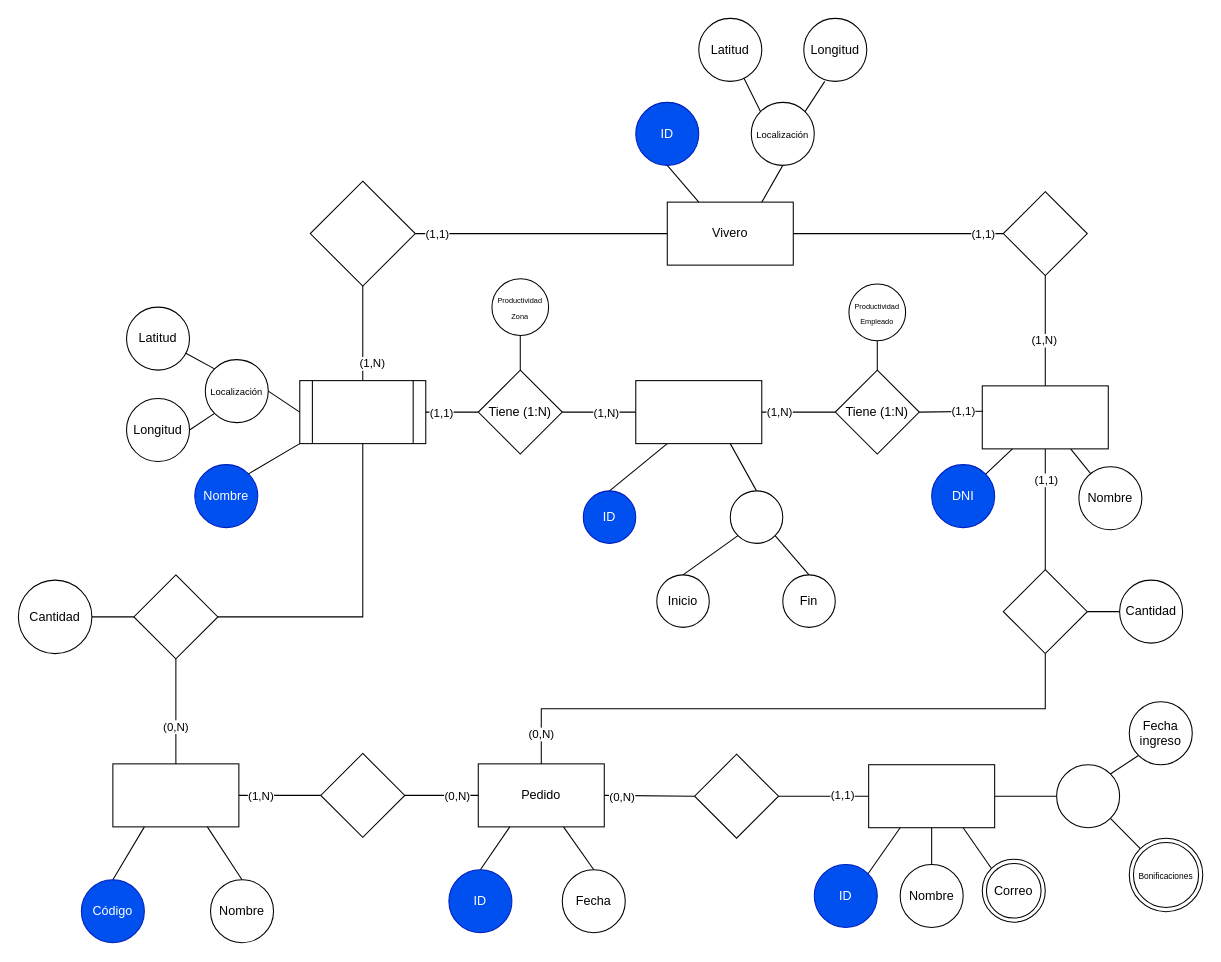
Some shapes in this 1221 by 962 pixel diagram are drawn without their labels. Each missing label, with the box of its shape:
Asignado (1:N): (1002, 191, 1087, 276)
Cliente: (868, 764, 995, 828)
E Pertenece (1:N): (309, 180, 415, 286)
Empleado: (981, 385, 1108, 449)
Gestiona (1:N): (1002, 569, 1087, 654)
Incluye (N:M): (320, 752, 405, 837)
Plazo: (729, 490, 783, 543)
Producto: (112, 763, 239, 827)
Realiza (1:N): (694, 753, 779, 838)
Tajinaste Plus: (1056, 764, 1120, 828)
Tarea: (635, 380, 762, 444)
Tiene (N:M): (133, 574, 218, 659)
Zona: (299, 380, 426, 444)
